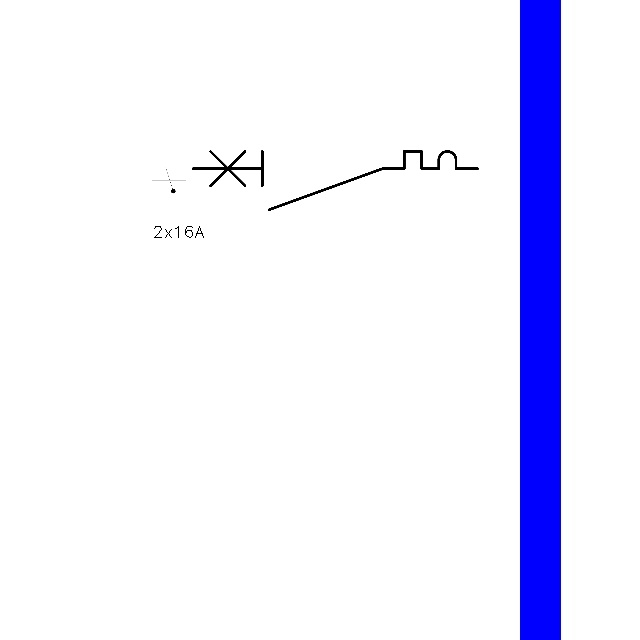interruptor_termomagnetico: (185, 144, 484, 217)
